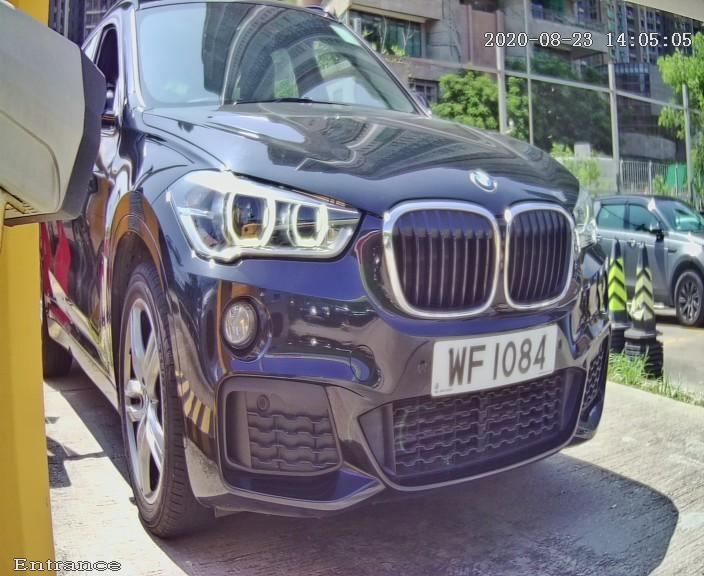Car: (13, 13, 642, 561)
License Plate: (381, 312, 602, 414)
